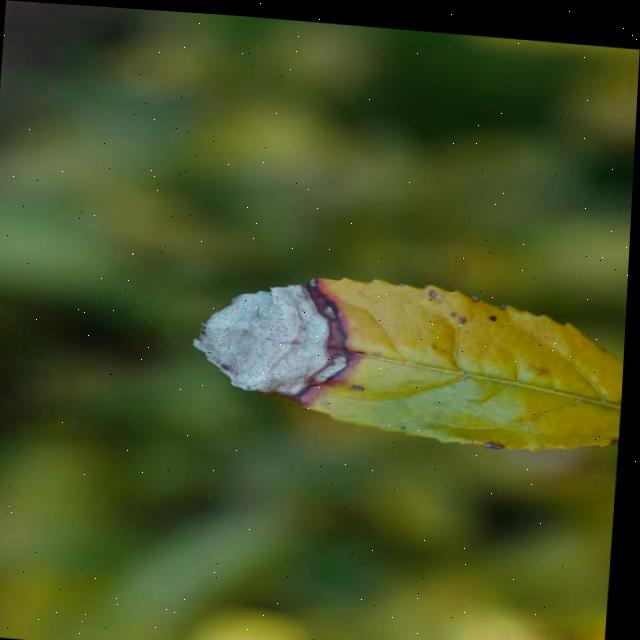Tea cloud leaf blight: (192, 260, 368, 409)
